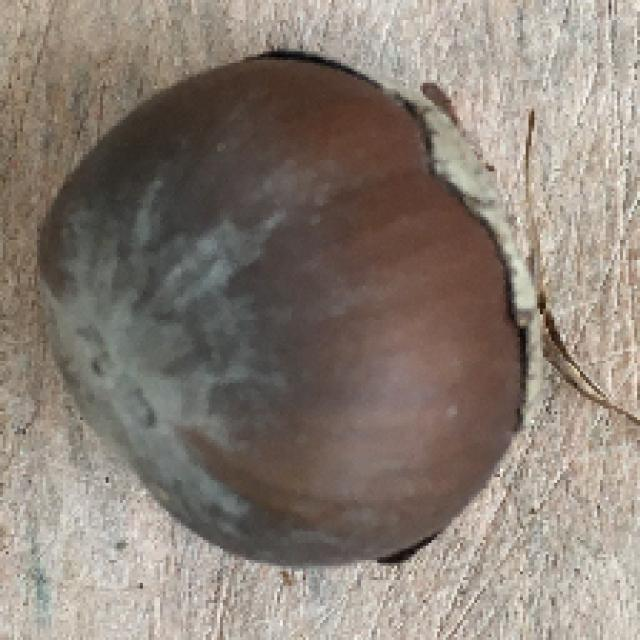damagedHazelnut: (32, 40, 548, 564)
